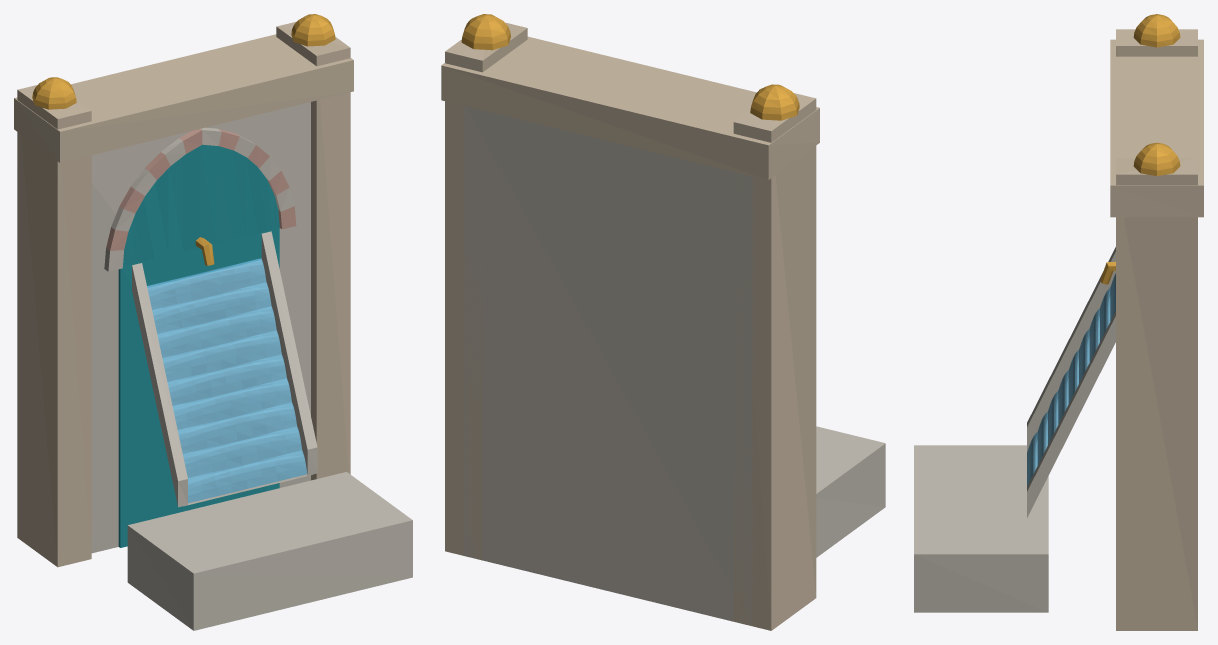
The model's file is ZB_yapi_selsebil_cesmesi.glb.
The picture shows the model from 3 angles, left to right: view 1: azimuth 30°, elevation 25°; view 2: azimuth 150°, elevation 25°; view 3: azimuth 270°, elevation 25°; orthographic projection. The views are drawn at different scales.
Parts seen in each view (by area): view 1: ZB_yapi_selsebil_cesmesi; view 2: ZB_yapi_selsebil_cesmesi; view 3: ZB_yapi_selsebil_cesmesi.
Boxes of the visible parts, bbox=[...] form: ZB_yapi_selsebil_cesmesi: bbox=[14, 14, 412, 630]; ZB_yapi_selsebil_cesmesi: bbox=[441, 14, 885, 630]; ZB_yapi_selsebil_cesmesi: bbox=[914, 14, 1203, 630].
Bounding box in the file's own units: 3 × 4.51 × 2.47.
